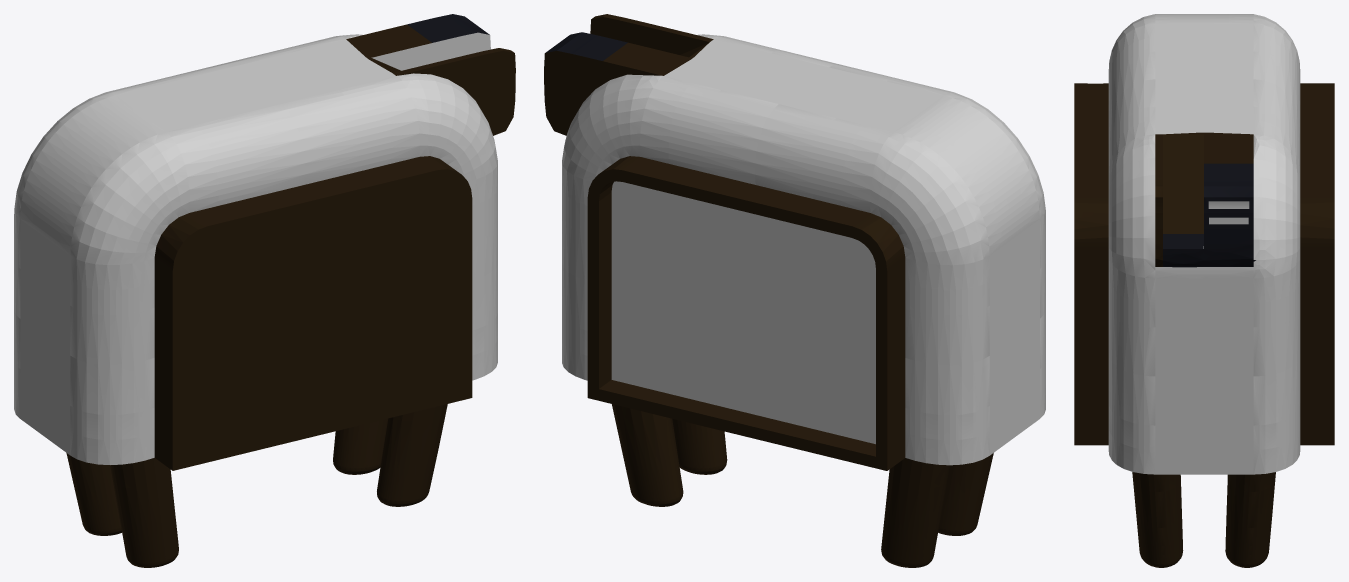
File: cow.obj
3 renders of one model, left to right at view 1: azimuth 30°, elevation 25°; view 2: azimuth 150°, elevation 25°; view 3: azimuth 270°, elevation 25°, orthographic.
Parts seen in each view (by area): view 1: Object_1; view 2: Object_1; view 3: Object_1.
Boxes of the visible parts, x1=… form: Object_1: x1=14, y1=14, x2=515, y2=567; Object_1: x1=544, y1=14, x2=1045, y2=567; Object_1: x1=1074, y1=14, x2=1334, y2=567.
Bounding box in the file's own units: 0.4054 × 0.373 × 0.2094.
